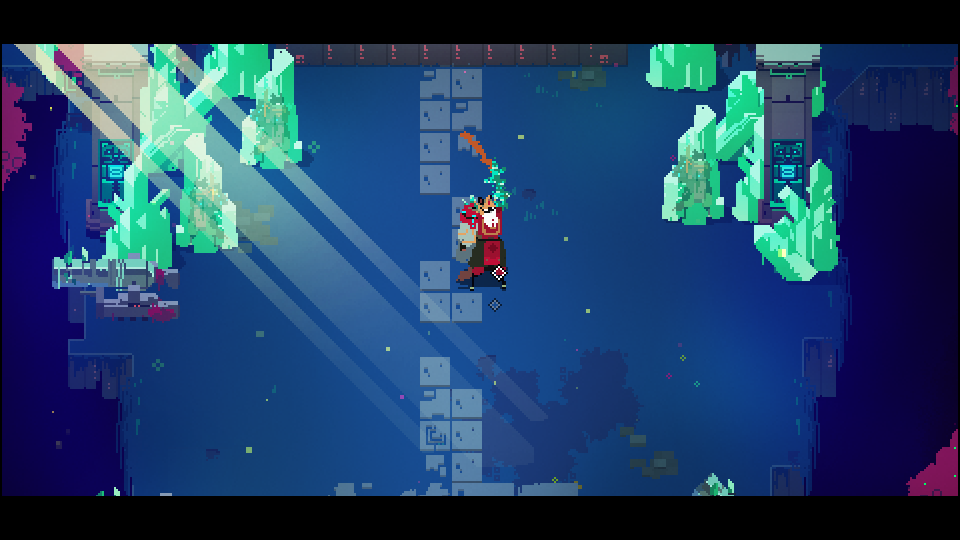hanged_man: (447, 150, 515, 293)
